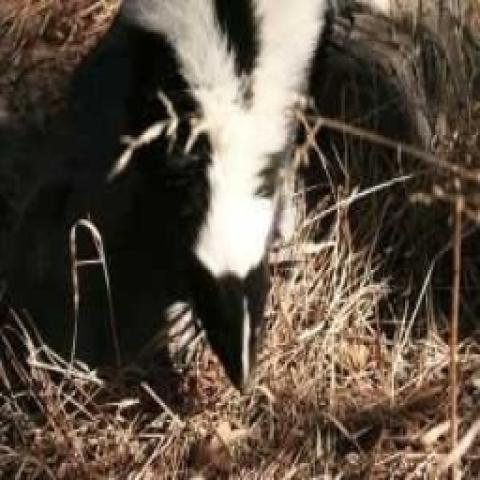small_animal: (0, 0, 339, 399)
